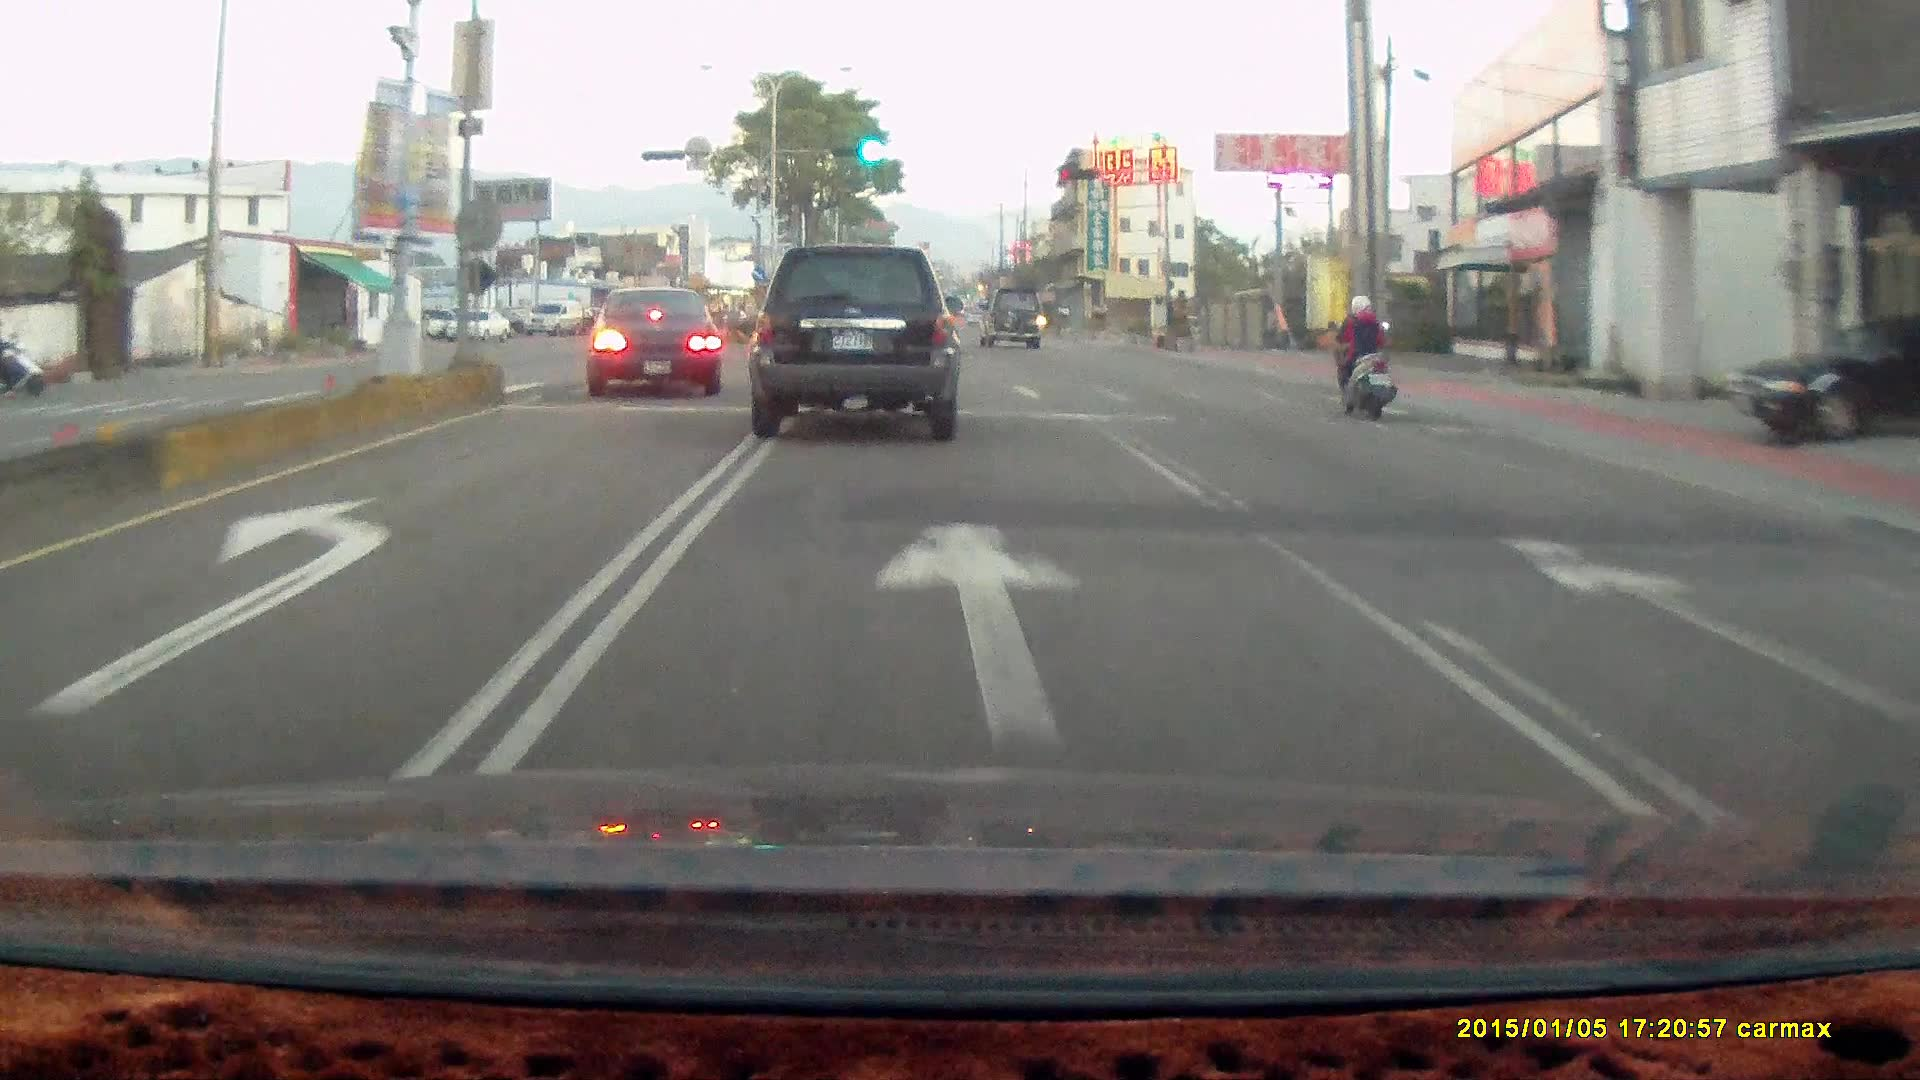rider: (1318, 282, 1409, 431), (1325, 293, 1394, 420), (0, 324, 48, 392)
vehicle: (745, 234, 965, 435), (746, 244, 962, 440), (1727, 311, 1920, 443), (1741, 310, 1916, 451), (582, 286, 729, 405), (579, 285, 724, 398), (976, 286, 1048, 351), (975, 284, 1042, 347), (443, 305, 510, 342), (523, 298, 583, 334)
